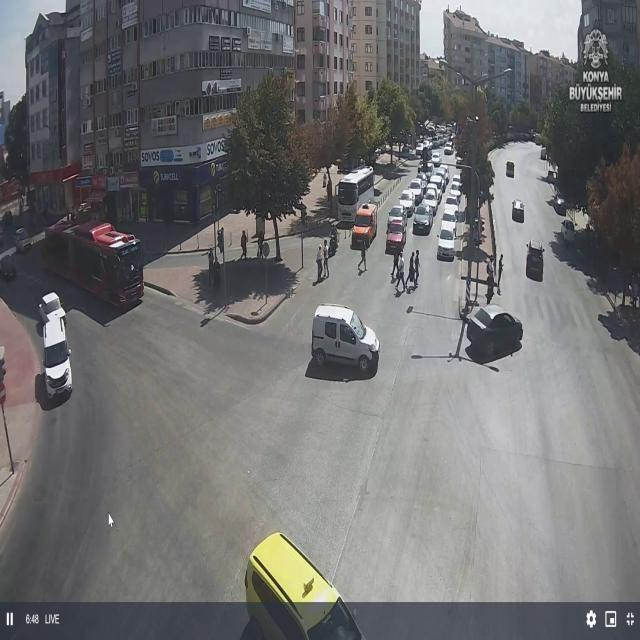Bus: (46, 221, 145, 306), (338, 165, 374, 224)
Car: (245, 534, 368, 638), (466, 305, 523, 357), (38, 319, 72, 399), (38, 291, 66, 323), (526, 240, 545, 280), (385, 219, 406, 253), (437, 227, 457, 260), (412, 206, 433, 233), (387, 205, 407, 227), (397, 191, 415, 215), (407, 180, 424, 205), (561, 218, 577, 244), (422, 192, 439, 215), (440, 208, 458, 228), (552, 194, 567, 215), (512, 200, 525, 222), (448, 187, 462, 204), (450, 174, 462, 193), (422, 162, 434, 178), (506, 161, 515, 177), (431, 151, 441, 165), (444, 143, 453, 156), (455, 155, 463, 165)
Van: (309, 304, 378, 373), (351, 203, 378, 248)
